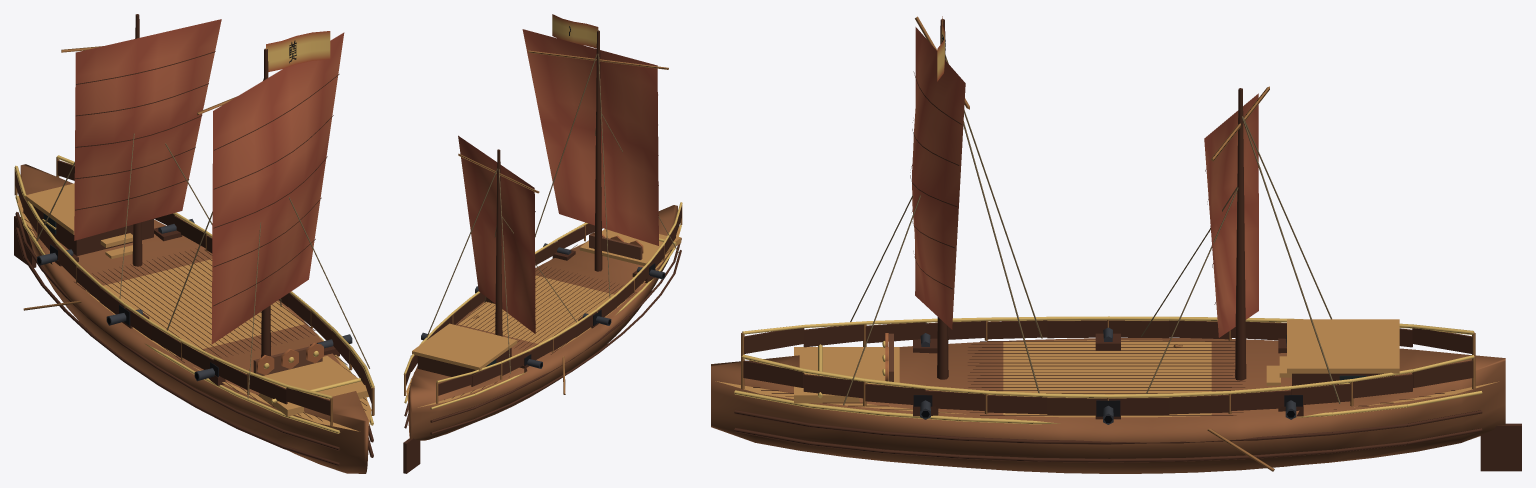
The model's file is patrol-lod1.glb.
3 views of the same model, side by side, from view 1: azimuth 30°, elevation 25°; view 2: azimuth 150°, elevation 25°; view 3: azimuth 270°, elevation 25° (orthographic). The views are drawn at different scales.
Parts seen in each view (by area): view 1: sail_02, sail_01, hull, fittings_wood, deck, fittings_trim, fittings_deck, bow_firing_platform_body, flag_01, patrol_stern_house_body, mast_timber_02, mast_timber_01 (+3 smaller); view 2: sail_02, hull, sail_01, fittings_wood, deck, fittings_deck, fittings_trim, mast_timber_02, mast_timber_01, flag_01, bow_firing_platform_body, patrol_stern_house_body (+3 smaller); view 3: hull, fittings_wood, fittings_deck, deck, sail_02, fittings_trim, sail_01, bow_firing_platform_body, mast_timber_01, rudder_pivot.
Boxes of the visible parts, x1,y1,x2,y2 form: sail_02: [211, 32, 344, 344]; sail_01: [74, 19, 221, 240]; hull: [20, 164, 368, 473]; fittings_wood: [14, 157, 374, 466]; deck: [17, 197, 371, 431]; fittings_trim: [14, 38, 374, 433]; fittings_deck: [22, 183, 366, 421]; bow_firing_platform_body: [259, 356, 368, 416]; flag_01: [266, 31, 330, 71]; patrol_stern_house_body: [32, 205, 153, 255]; mast_timber_02: [261, 48, 270, 357]; mast_timber_01: [132, 14, 142, 266]; sail_02: [522, 29, 658, 245]; hull: [408, 205, 677, 440]; sail_01: [458, 135, 536, 333]; fittings_wood: [404, 205, 682, 434]; deck: [406, 226, 679, 407]; fittings_deck: [410, 240, 671, 399]; fittings_trim: [403, 54, 682, 409]; mast_timber_02: [594, 30, 602, 271]; mast_timber_01: [495, 149, 502, 336]; flag_01: [552, 14, 598, 48]; bow_firing_platform_body: [579, 229, 681, 265]; patrol_stern_house_body: [417, 348, 511, 376]; hull: [711, 338, 1505, 473]; fittings_wood: [734, 319, 1482, 471]; fittings_deck: [753, 319, 1455, 415]; deck: [715, 340, 1498, 417]; sail_02: [910, 27, 965, 329]; fittings_trim: [734, 54, 1482, 424]; sail_01: [1204, 93, 1258, 337]; bow_firing_platform_body: [794, 347, 899, 403]; mast_timber_01: [1235, 88, 1246, 380]; rudder_pivot: [1480, 423, 1521, 471].
Size of the model in its own units: 8.07 by 15.2 by 24.49.
